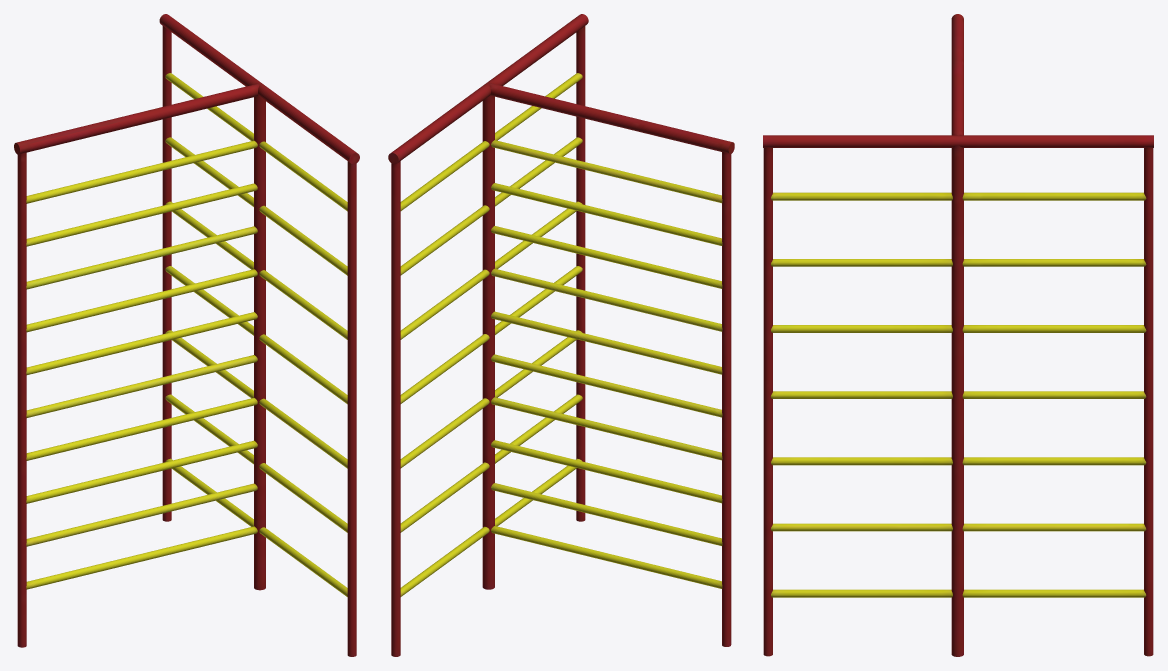
File: play_3014.glb
3 views of the same model, side by side, from view 1: azimuth 30°, elevation 25°; view 2: azimuth 150°, elevation 25°; view 3: azimuth 270°, elevation 25° (orthographic). The views are drawn at different scales.
Parts seen in each view (by area): view 1: play_3014; view 2: play_3014; view 3: play_3014.
Part boxes in pixels (x1,y1,x2,y2): play_3014: [14, 14, 359, 656]; play_3014: [388, 14, 734, 656]; play_3014: [763, 14, 1153, 656].
Size of the model in its own units: 1.24 by 2.4 by 1.64.
Materials: 1 (1 with a texture image).
